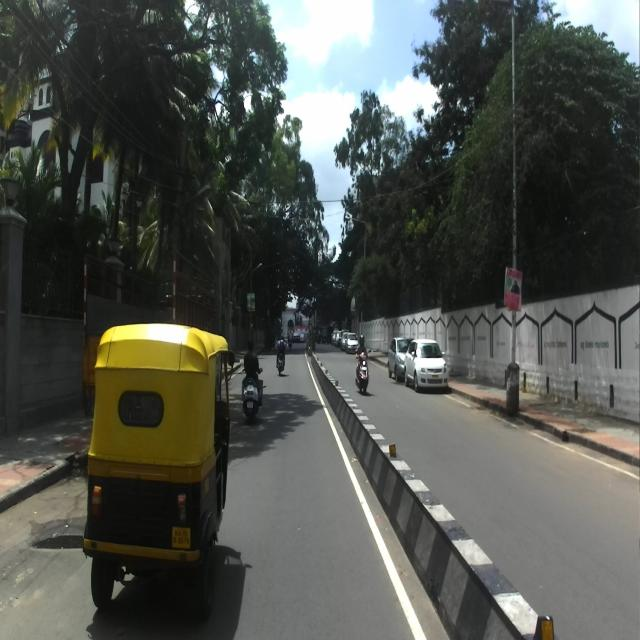autorickshaw: (83, 325, 235, 617)
